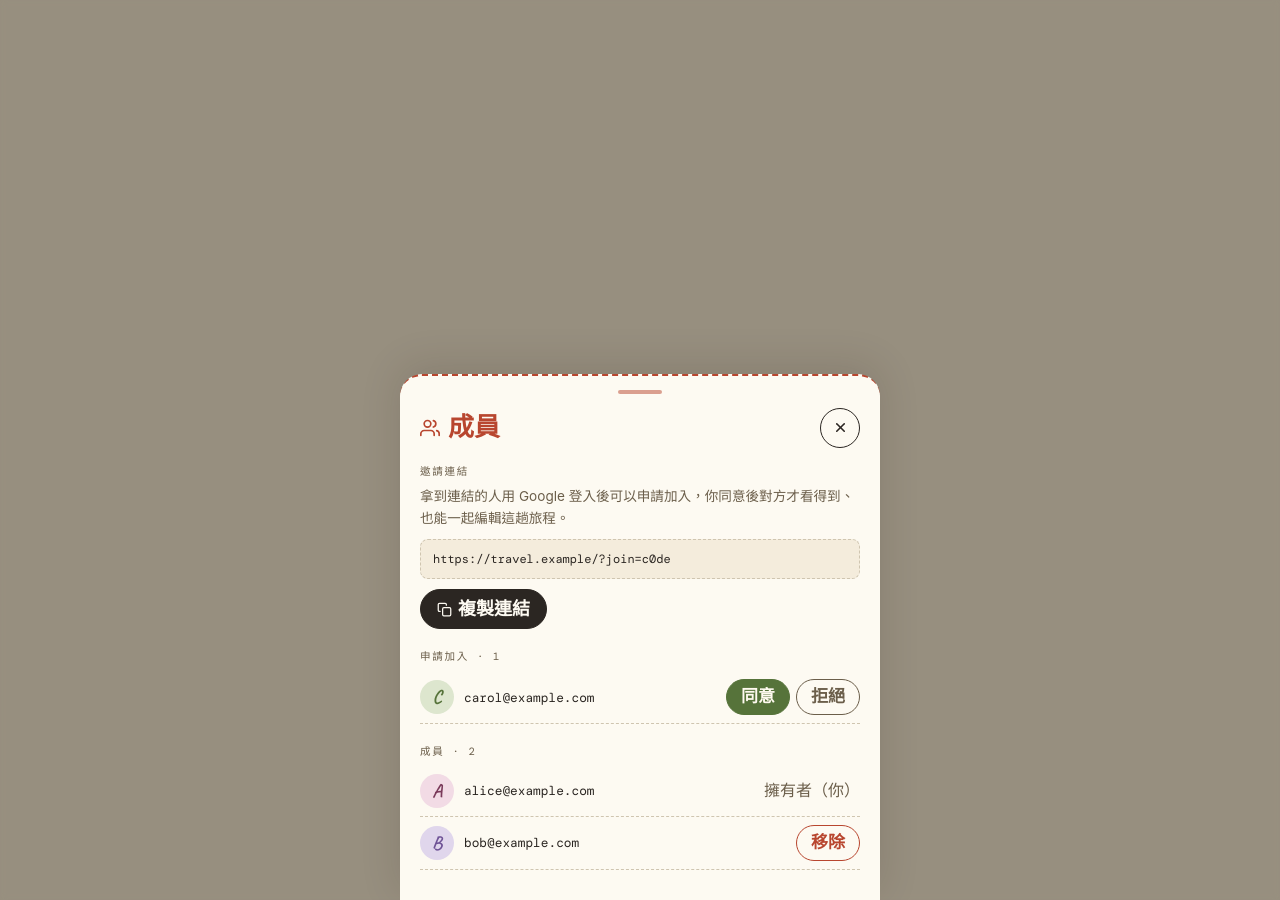
Scenario: 擁有者 › 失敗時提示原因
Step 1. Click the button "同意" → {"x": 758, "y": 697}, box [726,679,790,715]
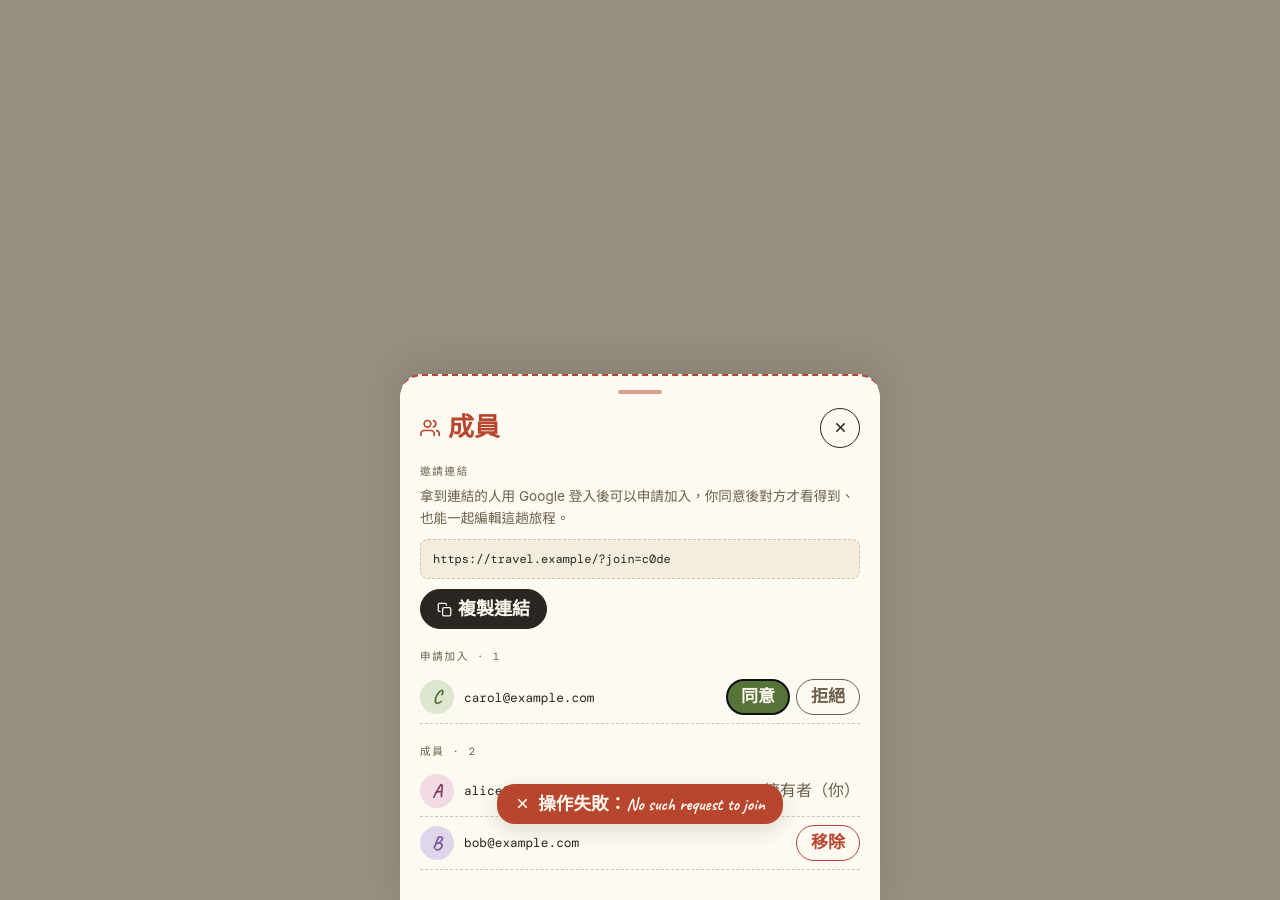
Check: the message reads "操作失敗：No such request to join", box [538,793,765,815]
